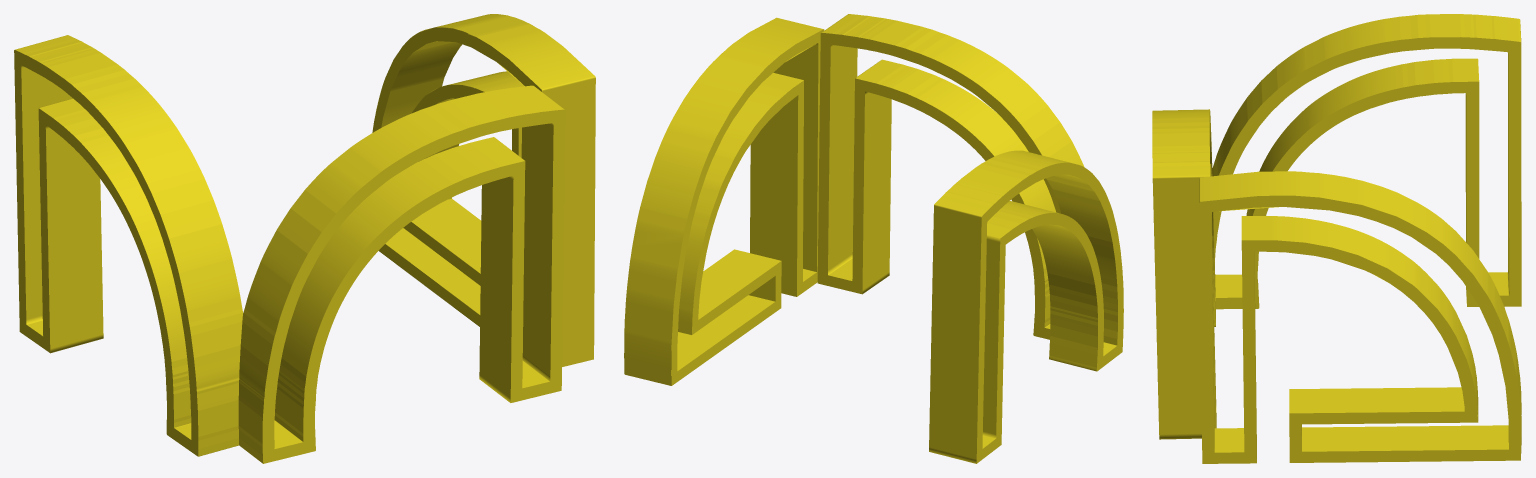
The model's file is dmbbcoubrtyard.glb.
3 renders of one model, left to right at view 1: azimuth 30°, elevation 25°; view 2: azimuth 150°, elevation 25°; view 3: azimuth 270°, elevation 25°, orthographic. The views are drawn at different scales.
Visible parts, largest first — view 1: Selection #1, Selection #1.001, Selection; view 2: Selection, Selection #1.001, Selection #1; view 3: Selection, Selection #1.001, Selection #1.
Part boxes in pixels (x1,y1,x2,y2): Selection #1: (238, 85, 565, 463); Selection #1.001: (14, 35, 243, 456); Selection: (372, 14, 595, 366); Selection: (624, 17, 824, 385); Selection #1.001: (929, 150, 1123, 463); Selection #1: (817, 14, 1084, 339); Selection: (1199, 171, 1521, 463); Selection #1.001: (1212, 14, 1521, 309); Selection #1: (1152, 109, 1216, 439).
Size of the model in its own units: 25.77 by 17.6 by 21.91.
